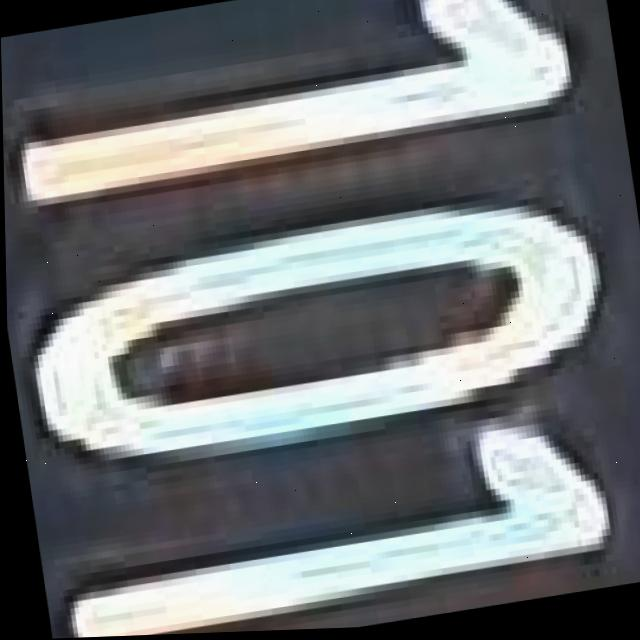character: (4, 167, 629, 493), (32, 398, 630, 639), (0, 0, 594, 235)
